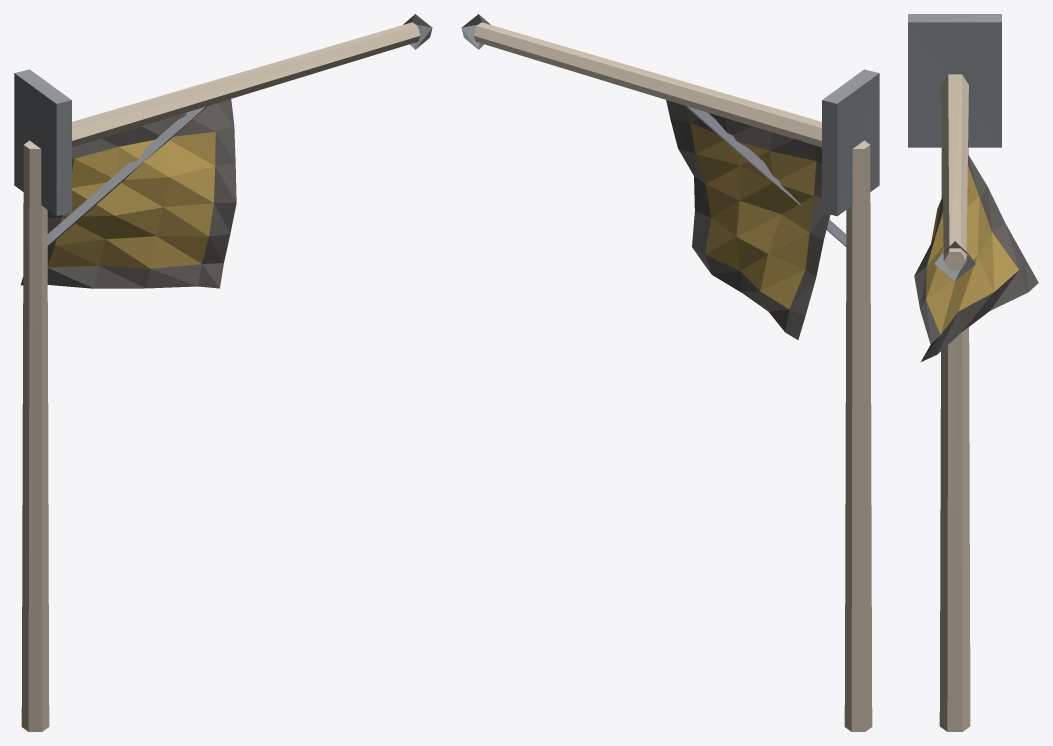
File: flag.square.huangqi__pole.horizontal.xiecheng__armHang.glb
3 renders of one model, left to right at view 1: azimuth 30°, elevation 25°; view 2: azimuth 150°, elevation 25°; view 3: azimuth 270°, elevation 25°, orthographic. The views are drawn at different scales.
Visible parts, largest first — view 1: flag.square.huangqi; view 2: flag.square.huangqi; view 3: flag.square.huangqi.
Boxes of the visible parts, x1,y1,x2,y2 form: flag.square.huangqi: (14, 14, 432, 731); flag.square.huangqi: (461, 14, 879, 731); flag.square.huangqi: (908, 14, 1038, 731).
Bounding box in the file's own units: 2.12 × 3.18 × 0.5288.
